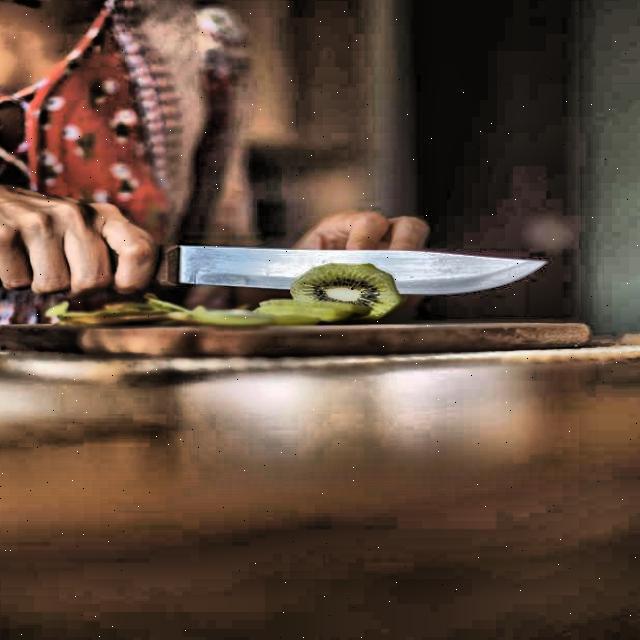knife: (0, 236, 555, 305)
